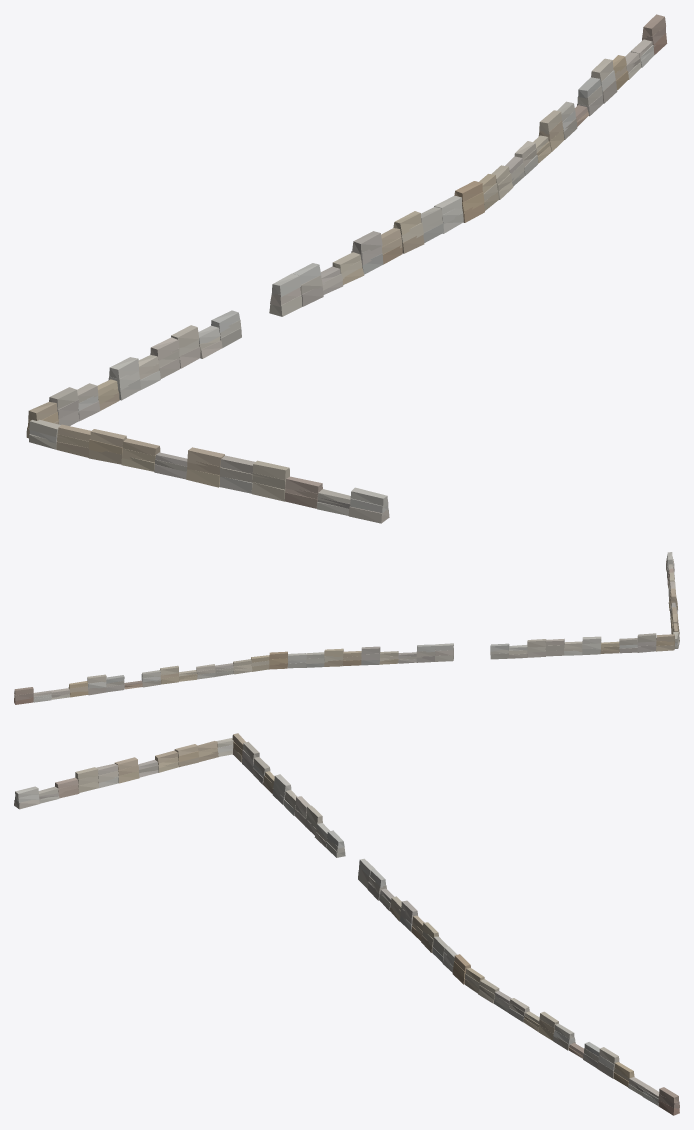
Rendered from farm_-29_-27_mid.glb.
3 views of the same model, one above another, from view 1: azimuth 30°, elevation 25°; view 2: azimuth 150°, elevation 25°; view 3: azimuth 270°, elevation 25° (orthographic). The views are drawn at different scales.
Visible parts, largest first — view 1: geometry_0; view 2: geometry_0; view 3: geometry_0.
Part boxes in pixels (x1=…): geometry_0: x1=26, y1=14, x2=667, y2=523; geometry_0: x1=14, y1=552, x2=679, y2=704; geometry_0: x1=14, y1=733, x2=679, y2=1115.
Bounding box in the file's own units: 48.92 × 5.91 × 45.
